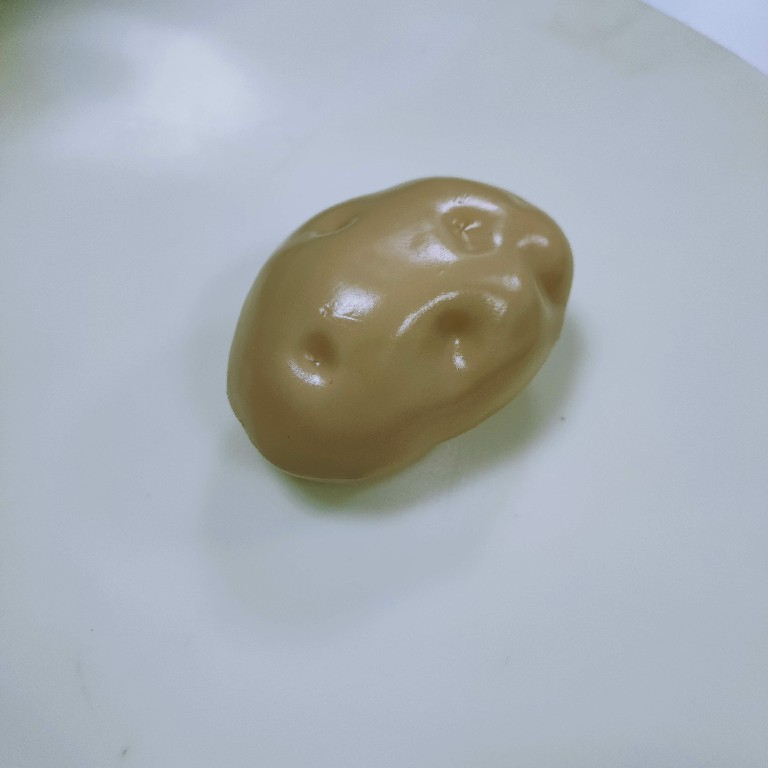fruit_potato: (221, 170, 581, 496)
